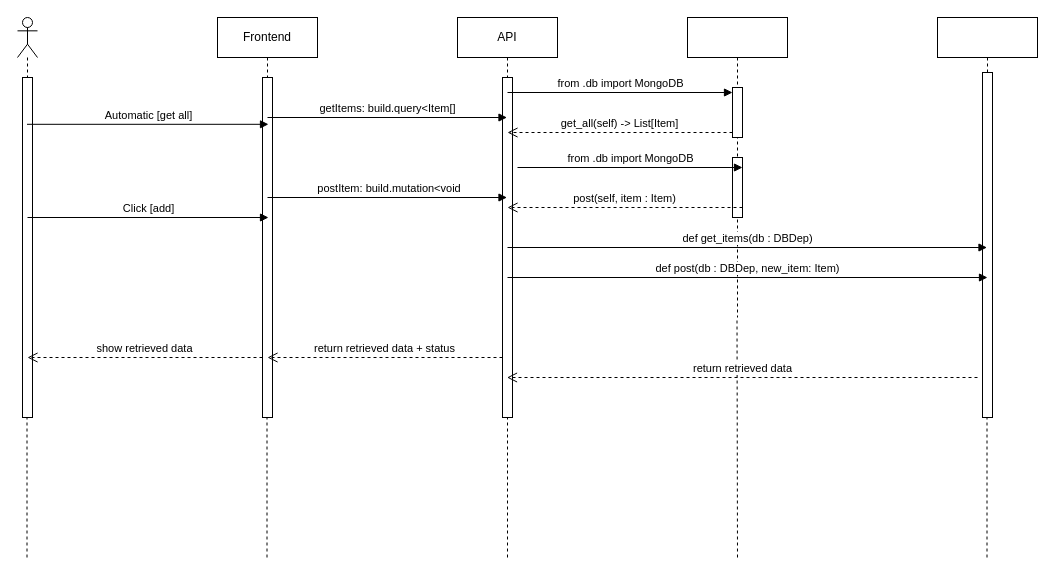
Some shapes in this 1055 by 576 pixel diagram are drawn without their labels. The shapes that lost their labels are listed below. From the top down, each one's box as (x1, y1, x2, y2) in pixels, then its label:
(686, 16, 788, 318): Motor db.py
(936, 16, 1038, 418): DB
